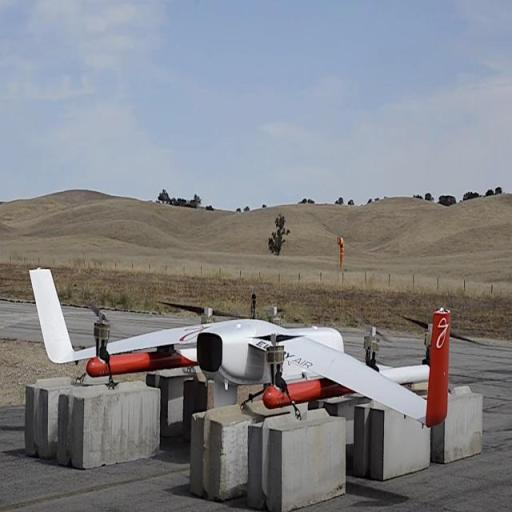uav: (28, 262, 450, 428)
